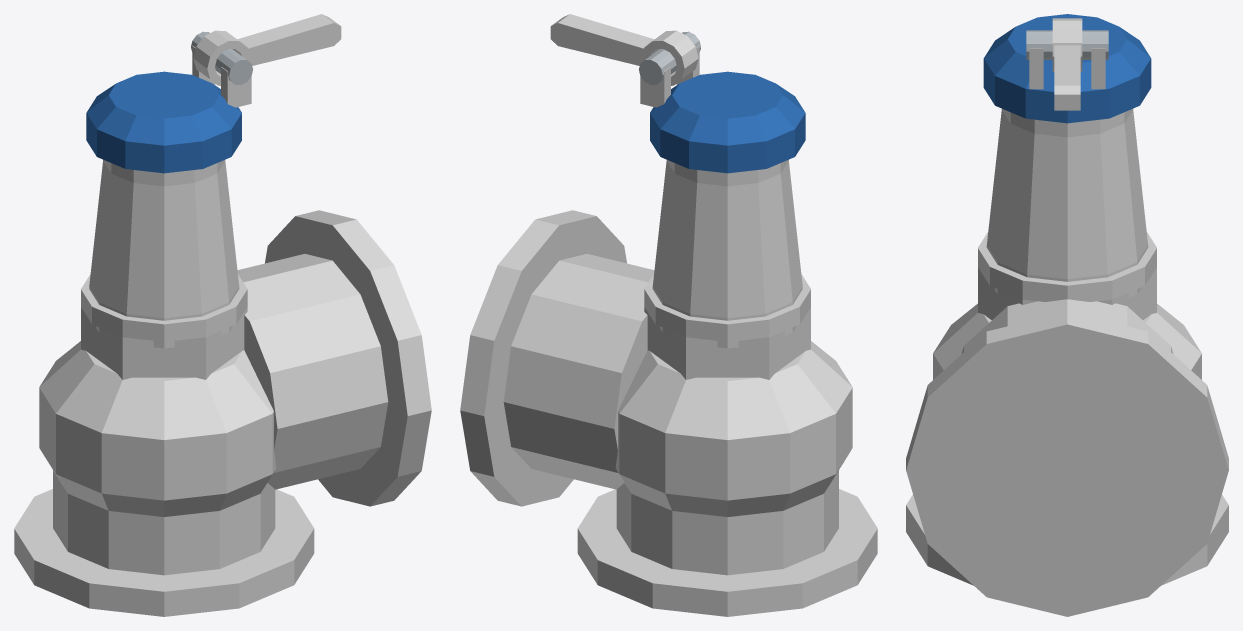
File: valve-relief.glb
The picture shows the model from 3 angles, left to right: view 1: azimuth 30°, elevation 25°; view 2: azimuth 150°, elevation 25°; view 3: azimuth 270°, elevation 25°; orthographic projection. The views are drawn at different scales.
Parts seen in each view (by area): view 1: angle.body, out.stub, spring.bonnet, out.flange, process.flange, process.stub, bonnet.cap, bonnet.hex, bonnet.collar, lifting.lever, lever.eye, hinge.pin (+1 smaller); view 2: angle.body, out.stub, spring.bonnet, out.flange, process.flange, process.stub, bonnet.cap, bonnet.hex, bonnet.collar, lifting.lever, lever.eye, hinge.pin (+1 smaller); view 3: out.flange, spring.bonnet, bonnet.cap, bonnet.collar, angle.body, out.stub, process.flange, bonnet.hex, lifting.lever, hinge.pin, lever.eye, hinge.cheek.0 (+1 smaller).
Part boxes in pixels (x1,y1,x2,y2): angle.body: (39,341,276,516); out.stub: (237,254,388,489); spring.bonnet: (89,159,239,348); out.flange: (265,210,431,506); process.flange: (14,489,314,616); process.stub: (53,470,275,575); bonnet.cap: (86,71,241,173); bonnet.hex: (81,307,247,379); bonnet.collar: (81,274,247,341); lifting.lever: (237,14,341,65); lever.eye: (193,30,250,85); hinge.pin: (191,31,252,84); angle.body: (615,341,852,516); out.stub: (503,254,654,489); spring.bonnet: (652,159,802,348); out.flange: (460,210,626,506); process.flange: (577,489,877,616); process.stub: (616,470,838,575); bonnet.cap: (650,71,805,173); bonnet.hex: (644,307,810,379); bonnet.collar: (644,274,810,341); lifting.lever: (550,14,654,65); lever.eye: (641,30,698,85); hinge.pin: (639,31,700,84); out.flange: (906,312,1228,616); spring.bonnet: (986,109,1148,297); bonnet.cap: (983,14,1151,123); bonnet.collar: (978,232,1156,301); angle.body: (933,303,1201,379); out.stub: (961,299,1173,353); process.flange: (906,495,1228,585); bonnet.hex: (978,267,1156,319); lifting.lever: (1054,45,1080,110); hinge.pin: (1026,30,1108,59); lever.eye: (1052,18,1082,71); hinge.cheek.0: (1091,48,1105,89).
Bounding box in the file's own units: 0.67 × 1 × 0.54.
